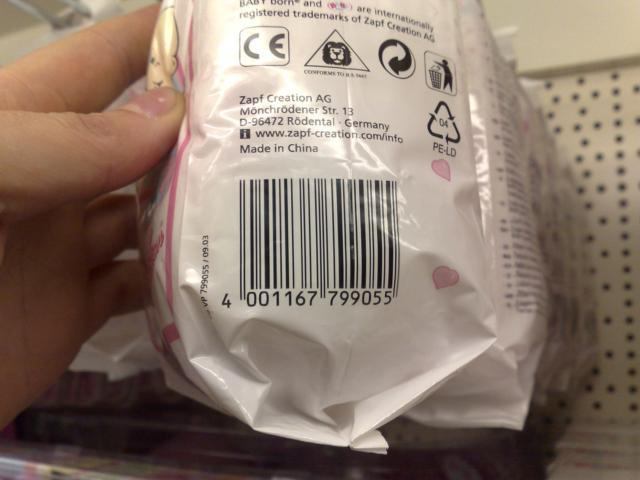Barcode: (215, 171, 408, 314)
